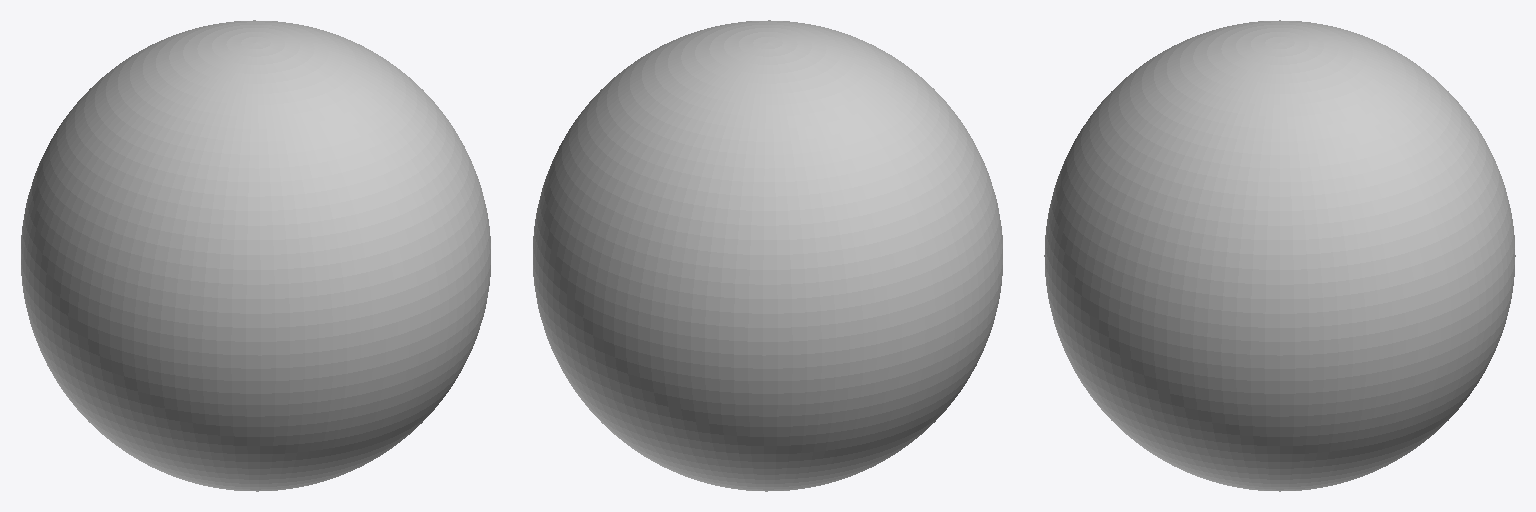
The model's file is Sol.obj.
3 views of the same model, side by side, from view 1: azimuth 30°, elevation 25°; view 2: azimuth 150°, elevation 25°; view 3: azimuth 270°, elevation 25° (orthographic).
Visible parts, largest first — view 1: Sol; view 2: Sol; view 3: Sol.
Part boxes in pixels (bbox=[...]): Sol: bbox=[21, 20, 490, 491]; Sol: bbox=[533, 20, 1002, 491]; Sol: bbox=[1044, 20, 1515, 491].
Bounding box in the file's own units: 6 × 6 × 6.